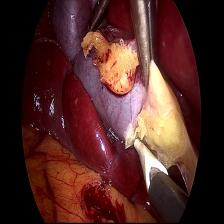Grasper: (130, 2, 161, 86), (87, 0, 111, 37)
Hook: (124, 134, 168, 196)
